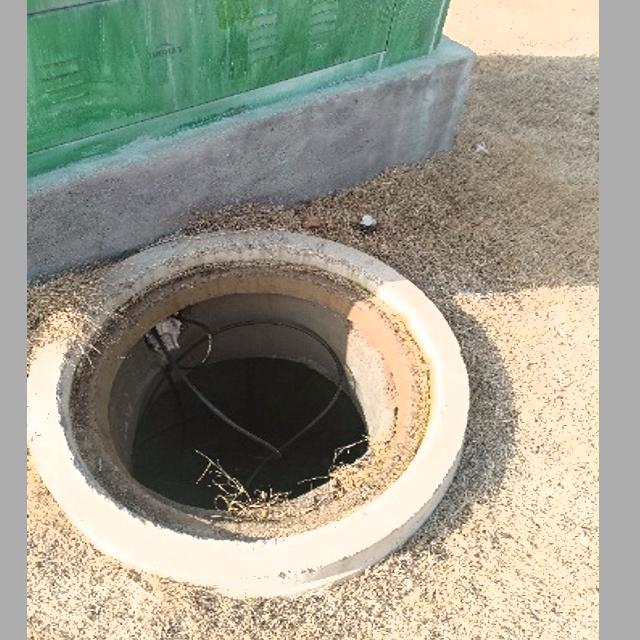lose: (27, 228, 472, 591)
